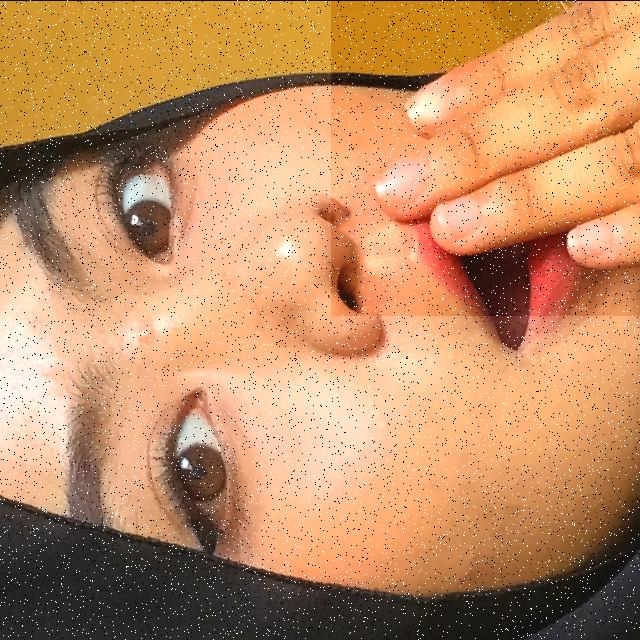ngantuk: (331, 0, 640, 315)
